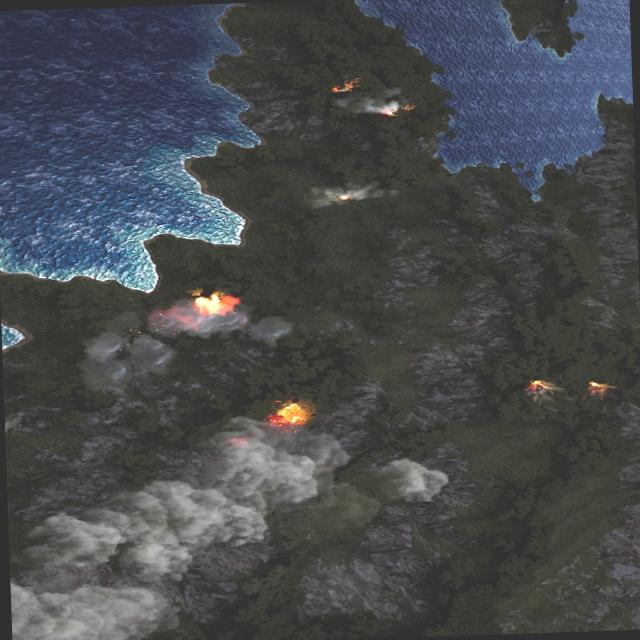fire: (190, 290, 240, 316), (268, 402, 310, 428), (581, 380, 613, 399), (522, 378, 556, 394), (331, 78, 359, 92), (336, 194, 348, 200)
smoke: (3, 412, 457, 640), (78, 294, 297, 389), (304, 182, 394, 210), (336, 86, 406, 118)
